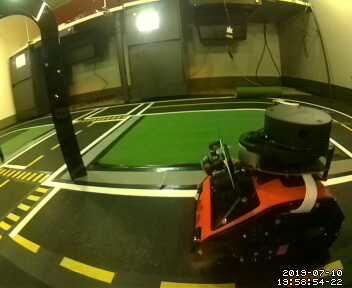pheeno: (193, 105, 346, 263)
